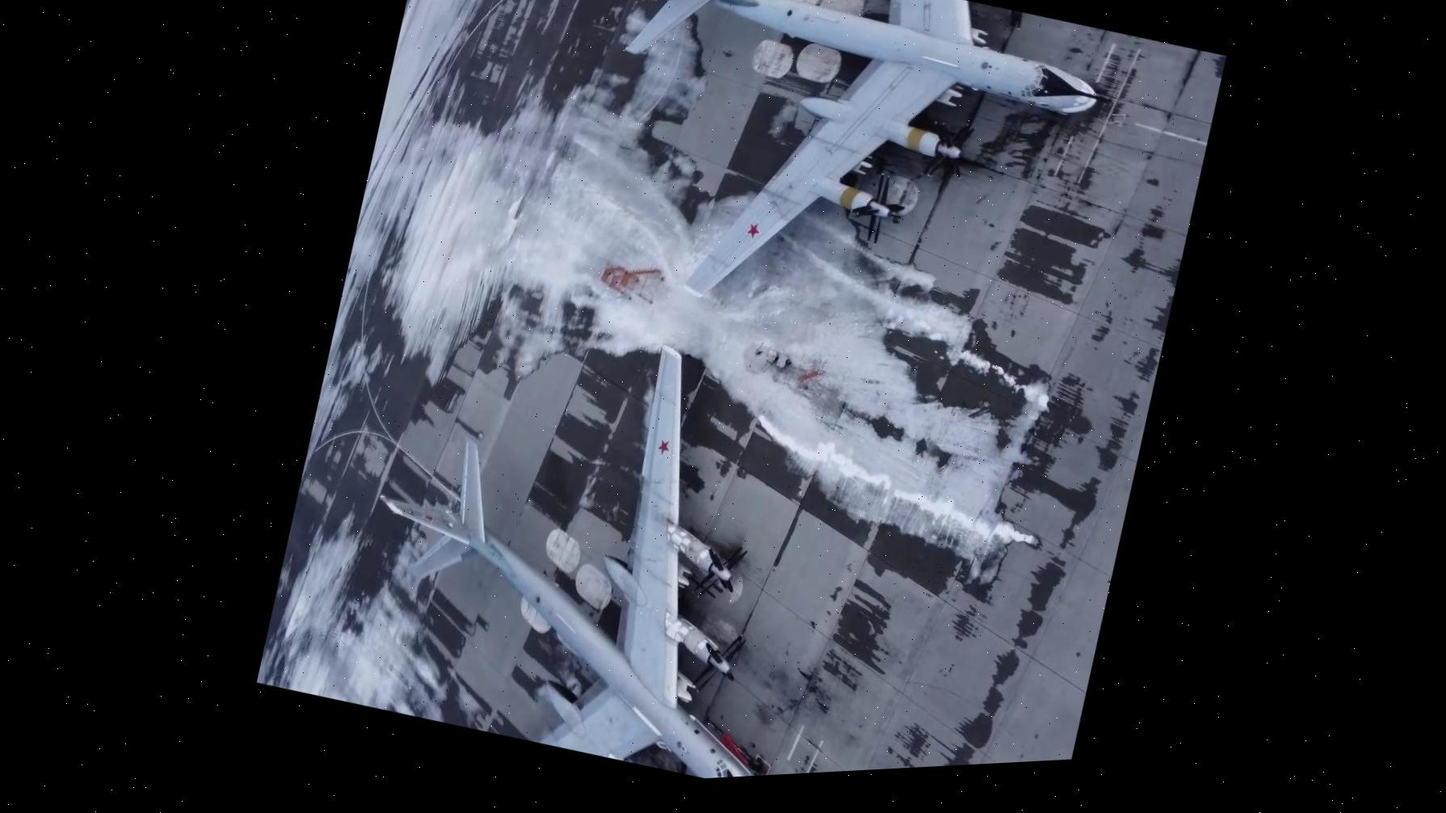plane: (318, 266, 885, 797), (515, 0, 1127, 395)
